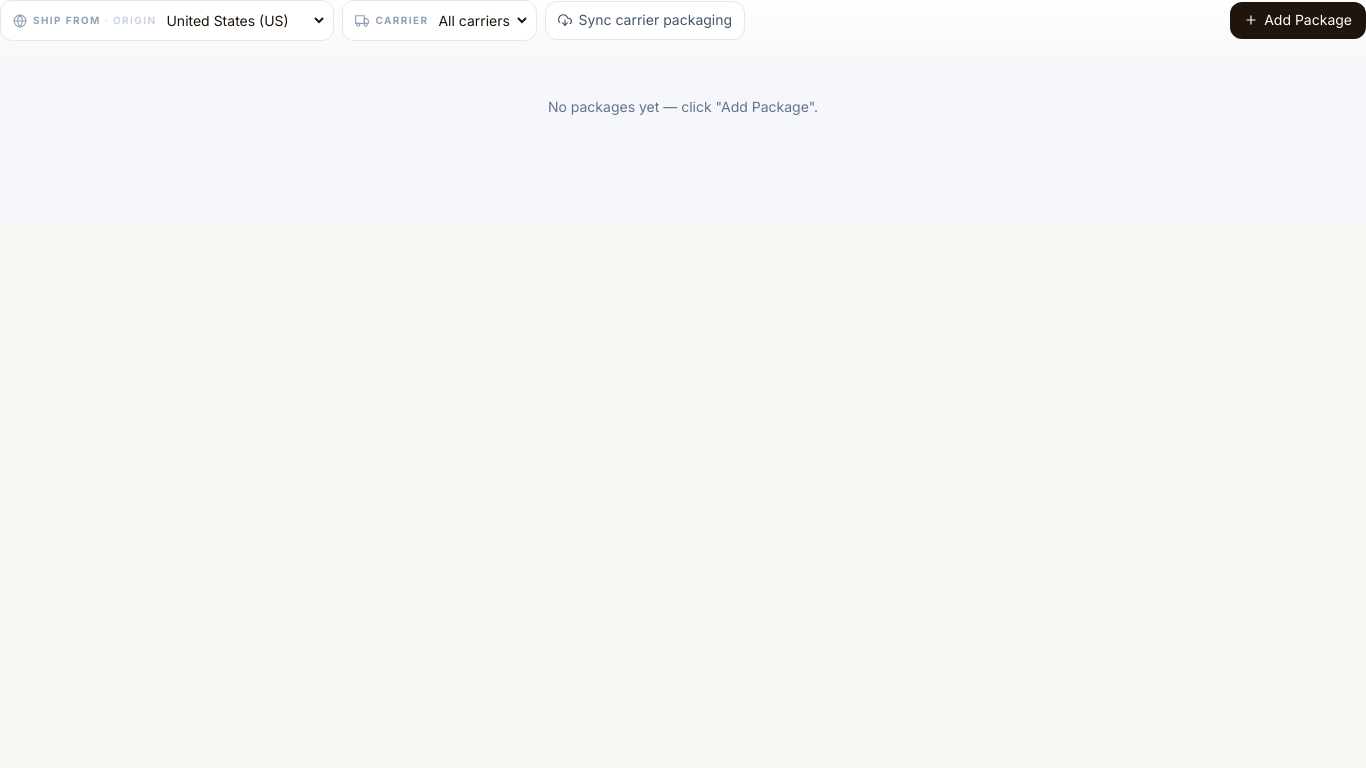
Test: PackagesPage — save (create) › valid create → savePreset + notify.success + close modal + refetch
Click the button "Add Package" at (1298,20), box [1230,2,1365,39]
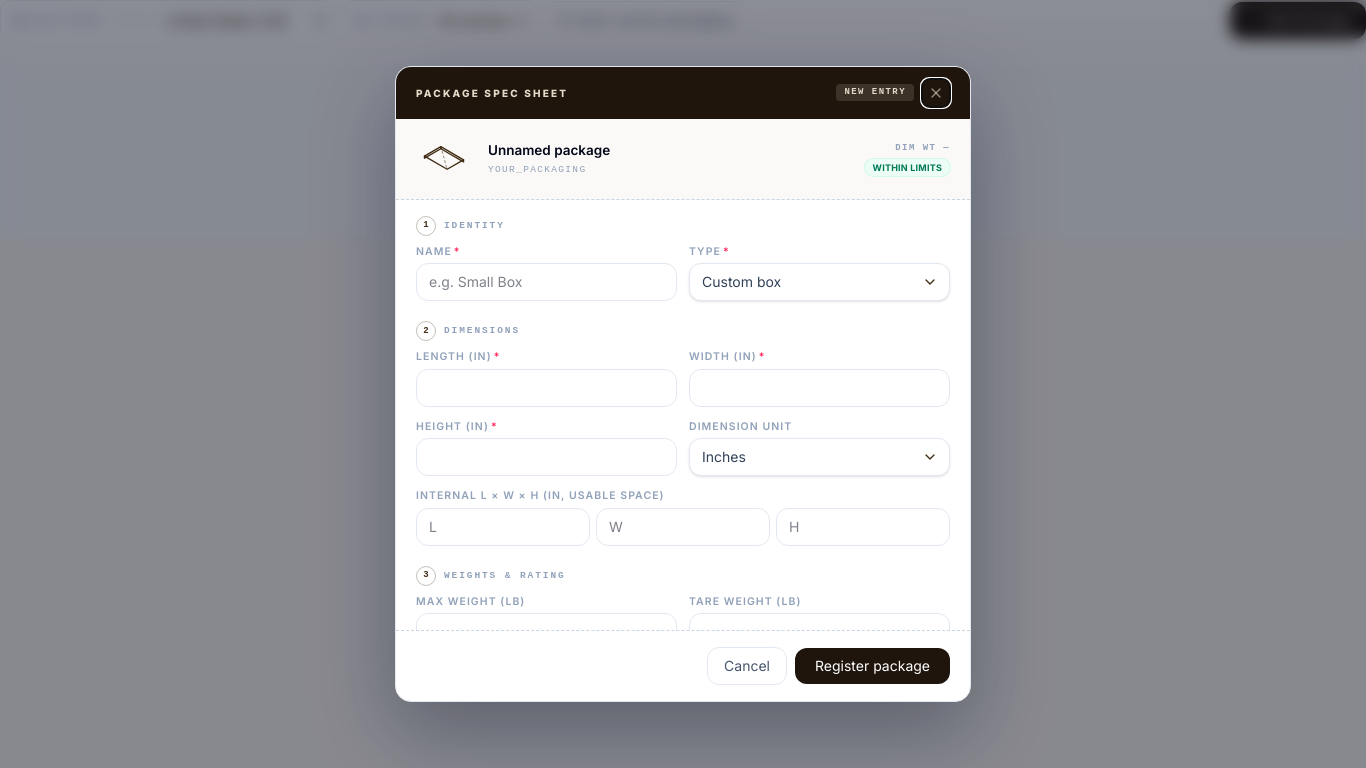
Note: Fill name + dims.
Type "Widget Box" into the field with placeholder "e.g. Small Box" at (546,282), box [416,263,677,301]
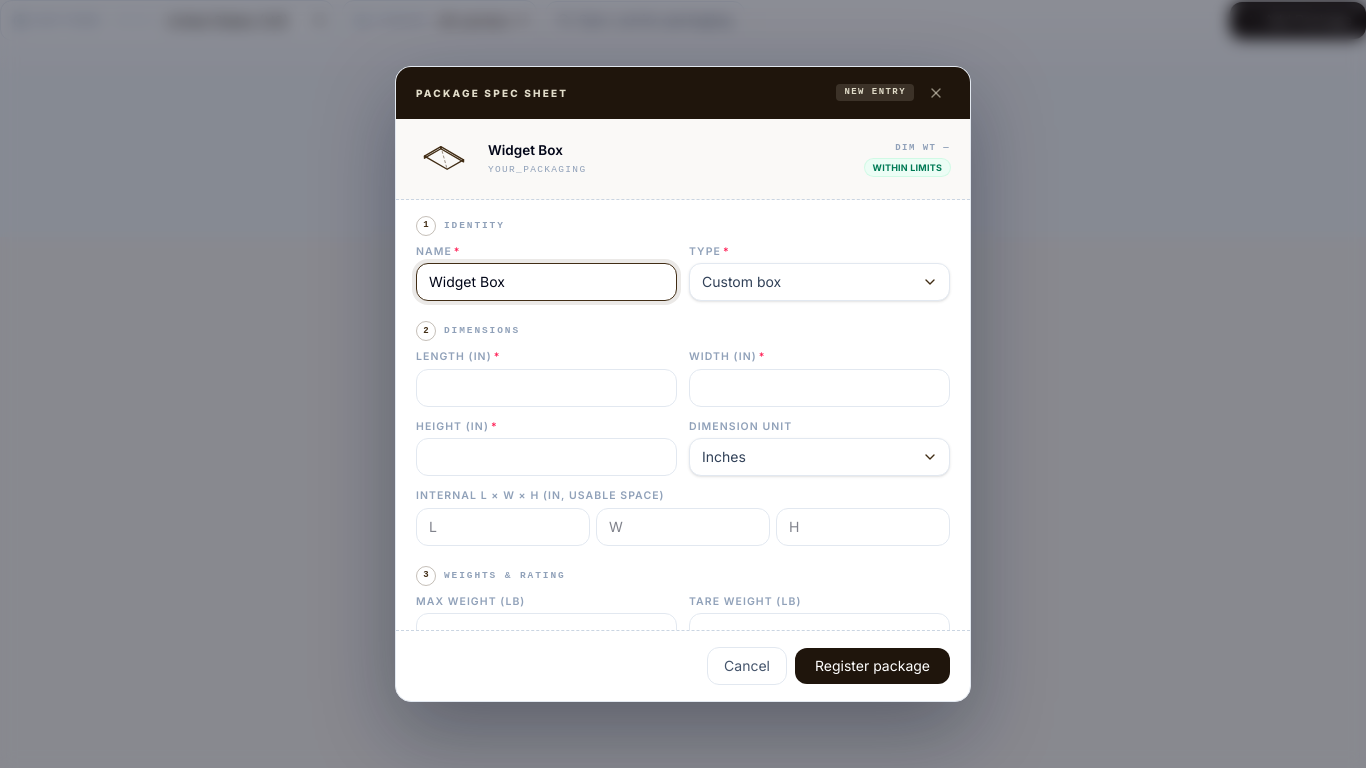
Type "10" into the number field labelled "Length (in)*" at (546,388), box [416,368,677,407]
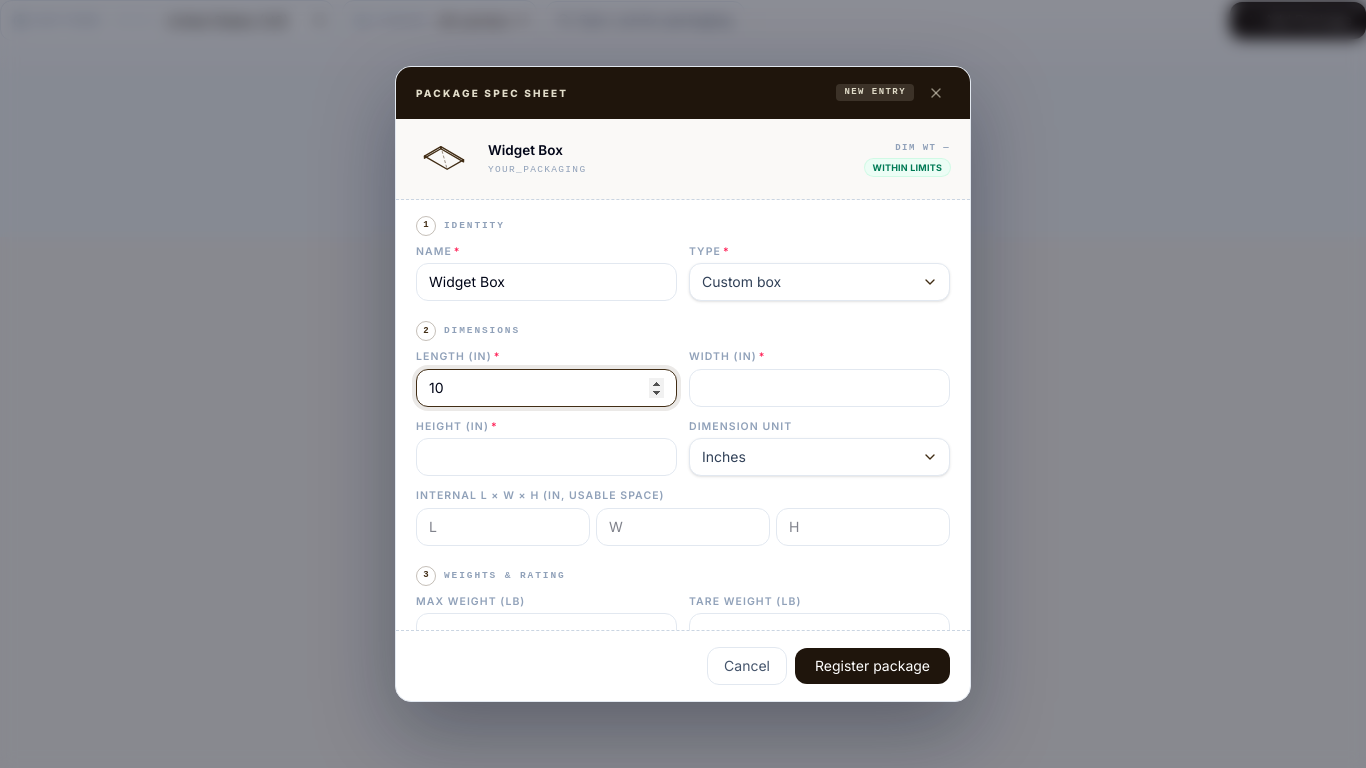
Type "8" into the number field labelled "Width (in)*" at (820,388), box [689,368,950,407]
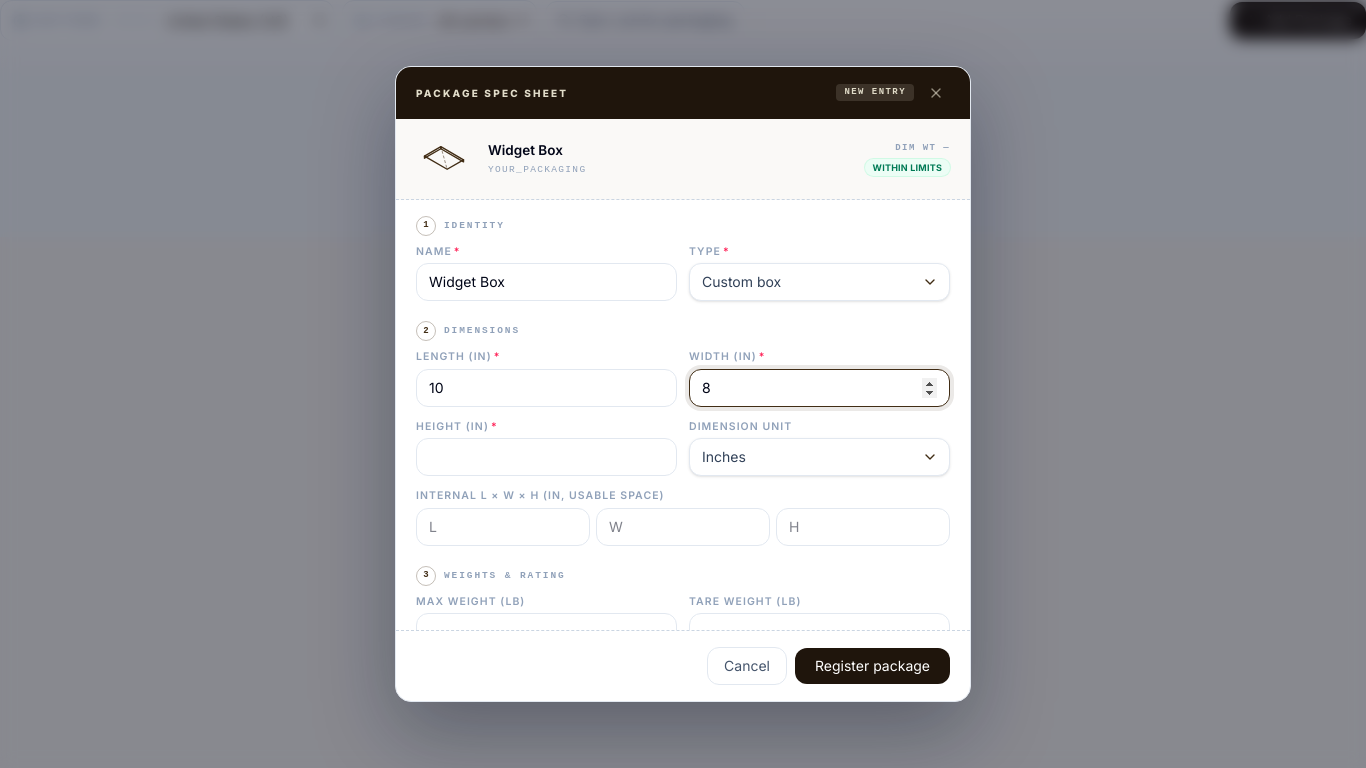
Type "6" into the number field labelled "Height (in)*" at (546,457), box [416,438,677,476]
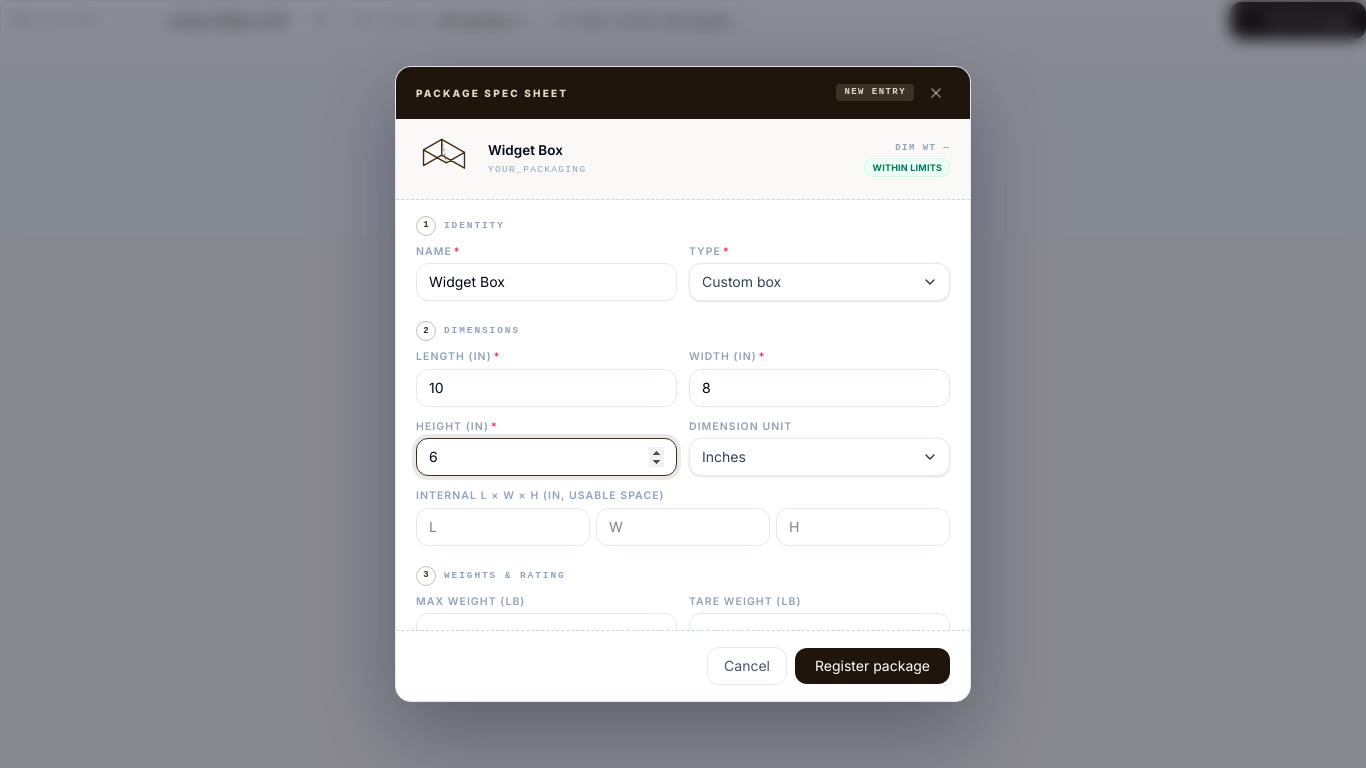
Click the button "Register package" at (872,666), box [795,648,950,684]
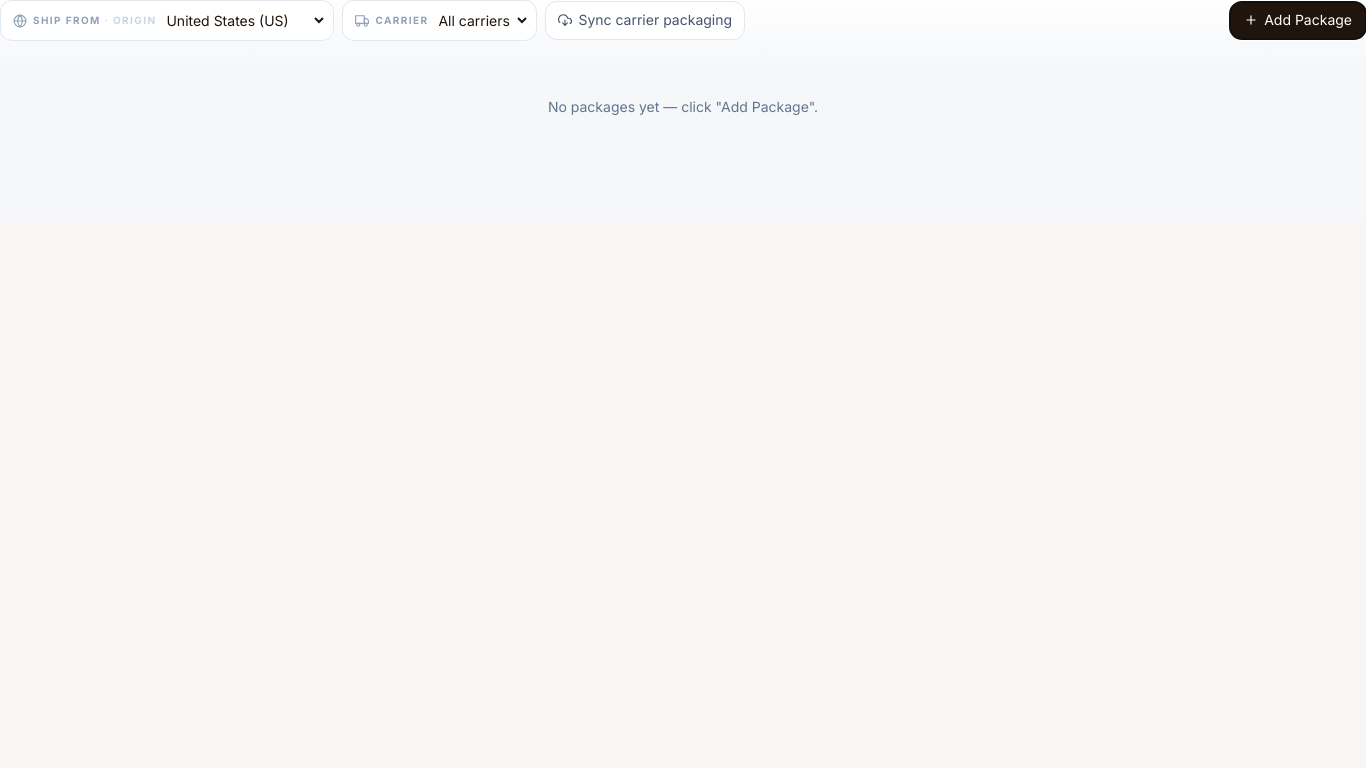
Result: the button "Register package" is gone
